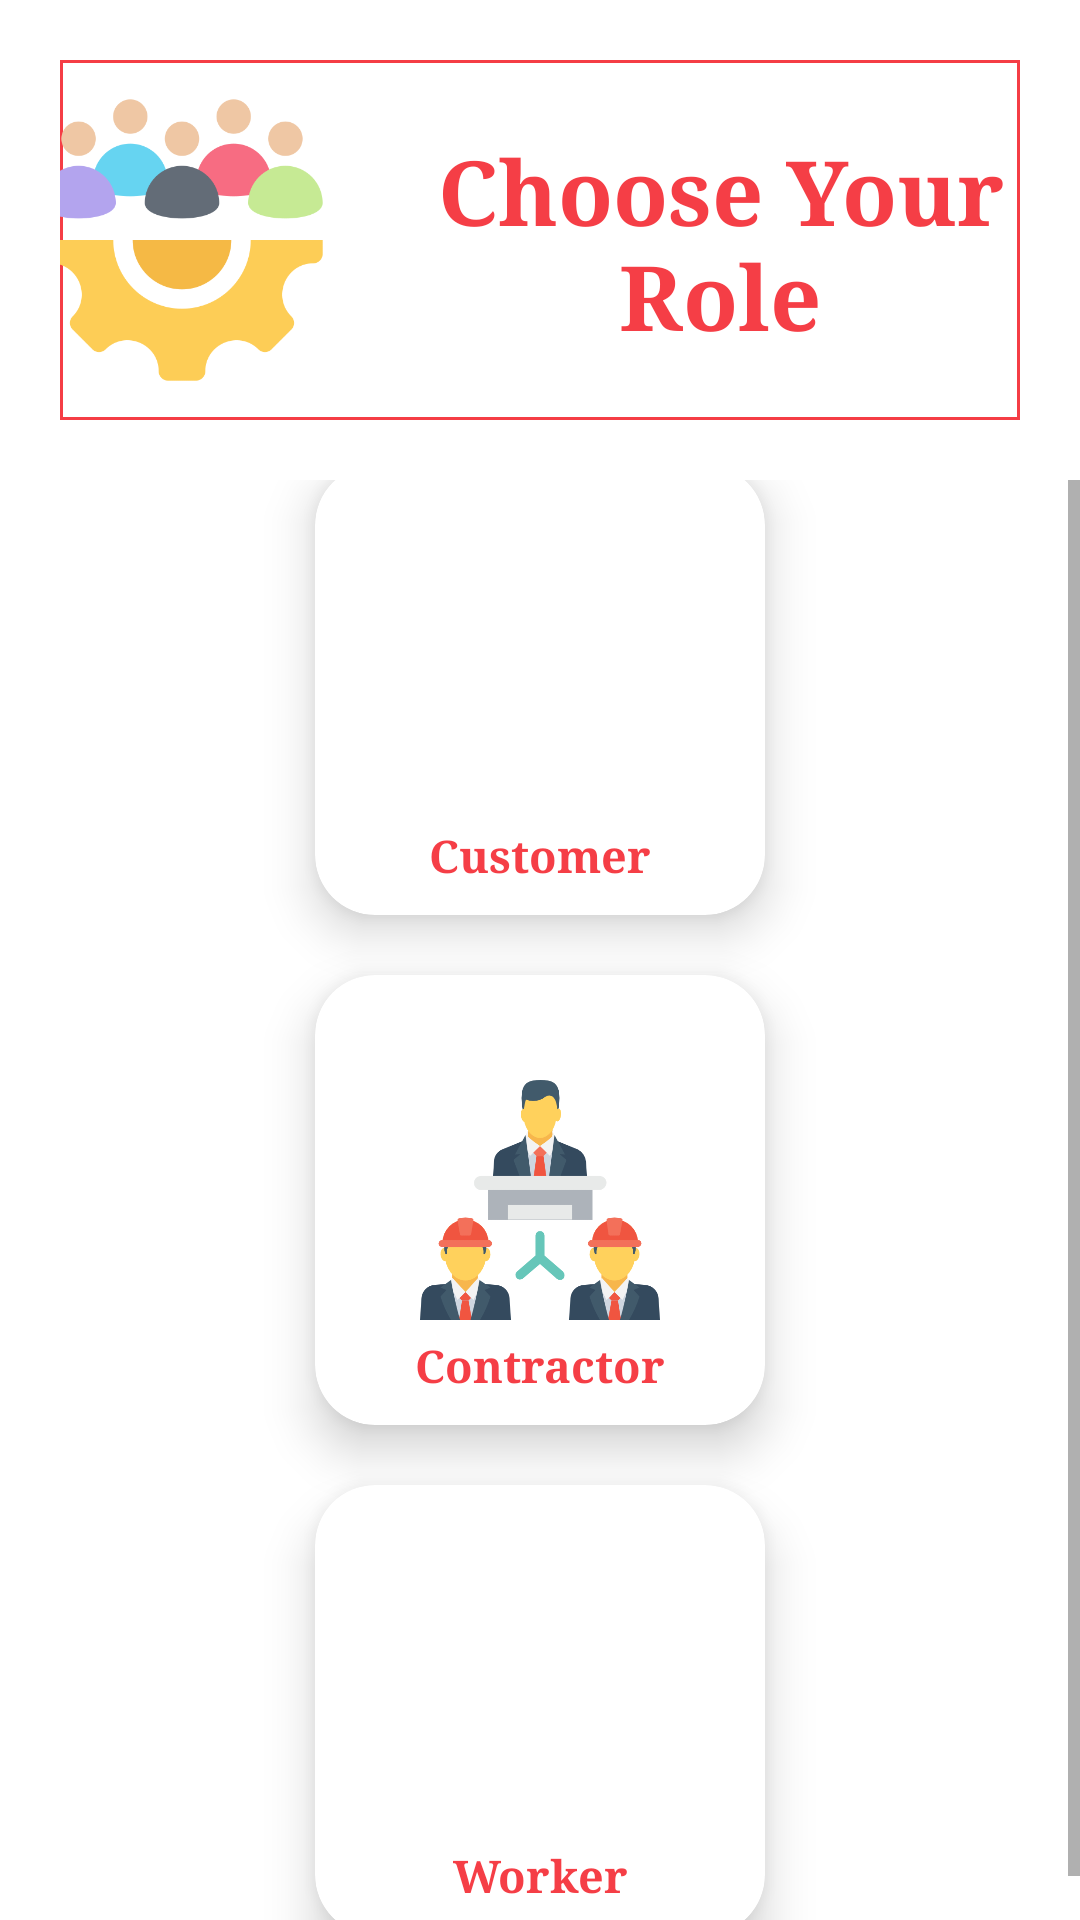

Locate icon controls on the screen. Image size 1080*1920, boxes as (x1, y1, x2, y2).
teammanagement: (60, 90, 323, 390)
